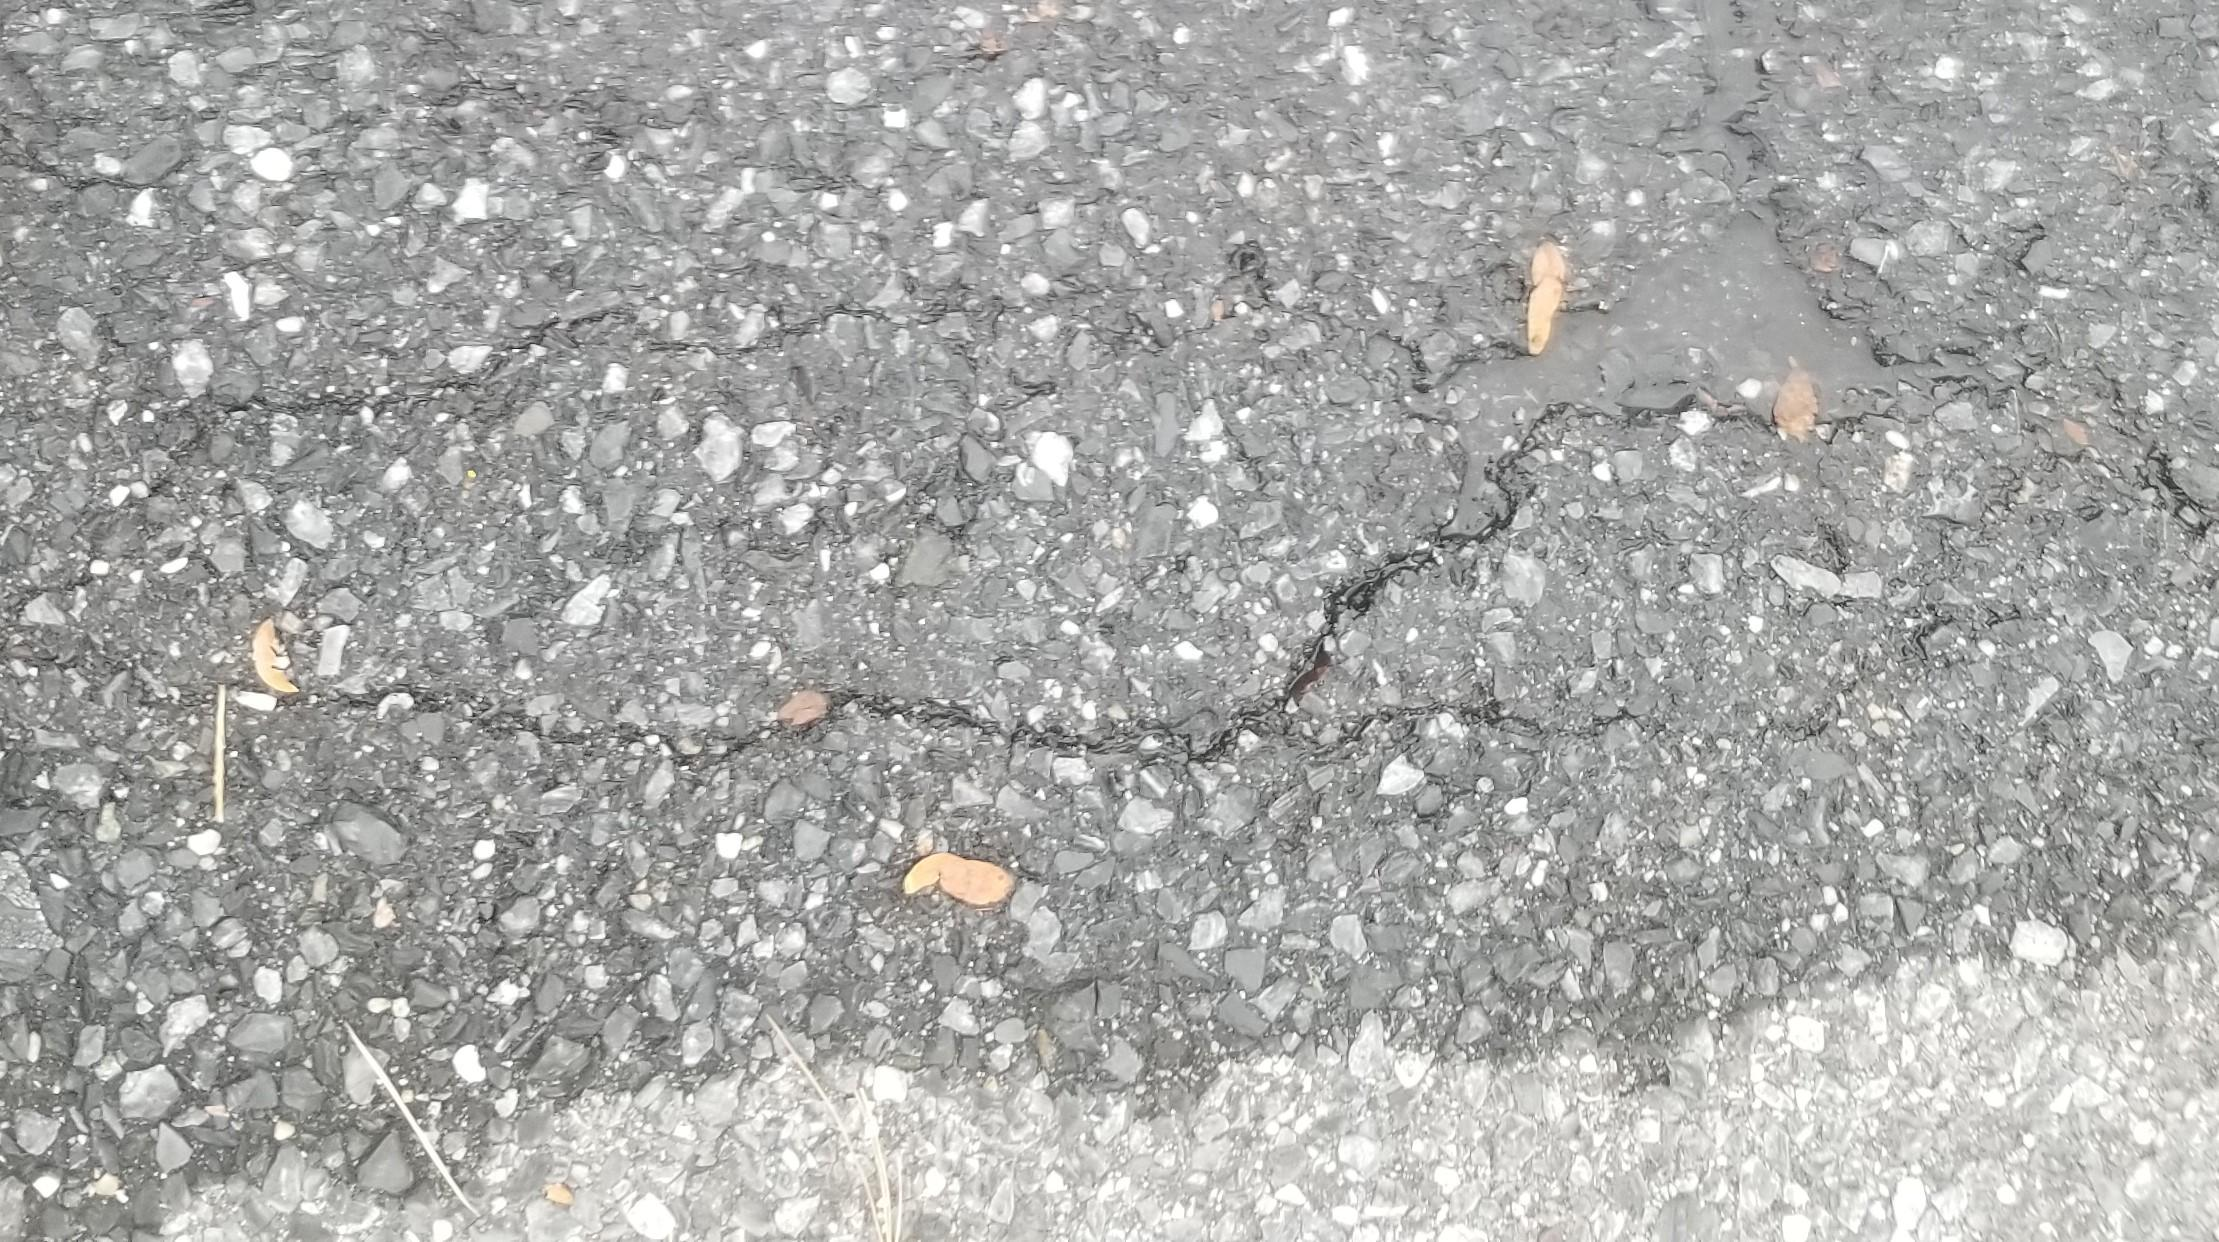crack: (160, 294, 1821, 786)
